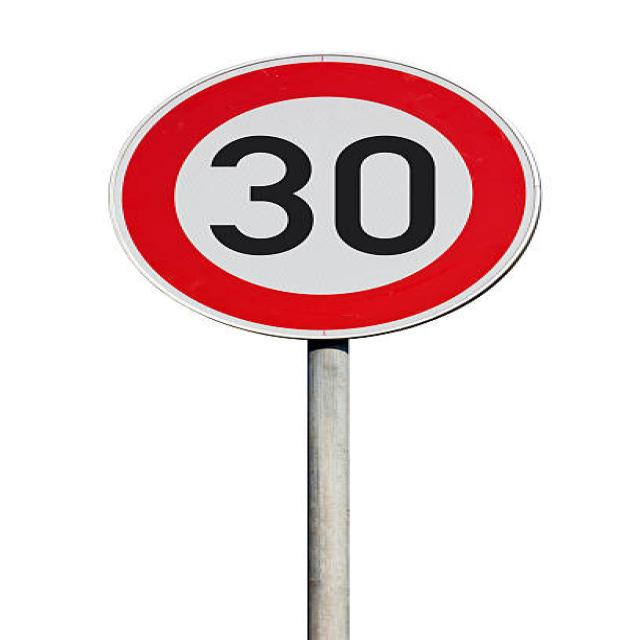Speed limit 30: (106, 51, 545, 343)
